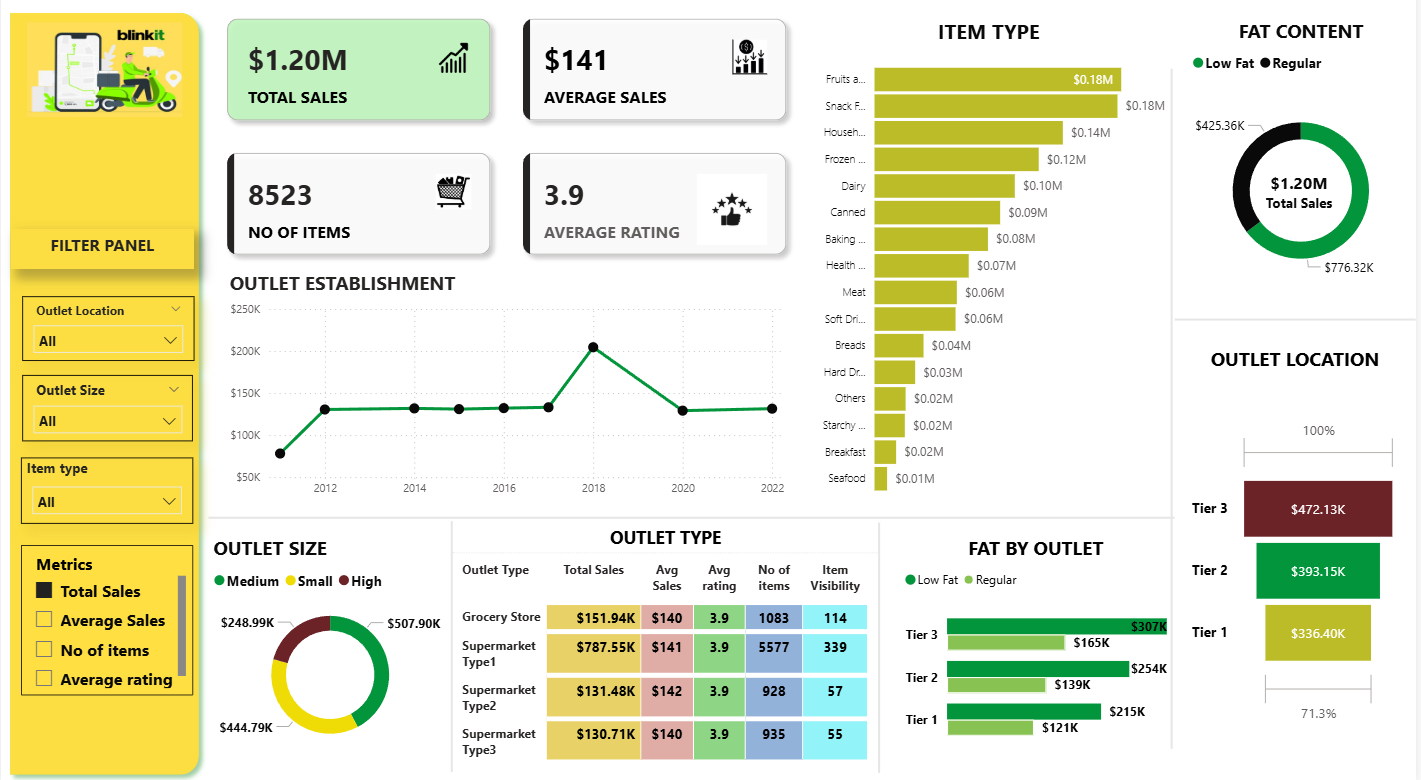

The page's visual inventory and layout, read from the dashboard file:
{"tool":"powerbi","page":{"name":"Page 1","canvas":[1400,800],"ordinal":0},"visuals":[{"type":"shape","box":[0,28.2,205.1,772.1],"z":0},{"type":"cardVisual","fields":{"Data":["BlinkIT Grocery Data.Total Sales","BlinkIT Grocery Data.Average Sales","BlinkIT Grocery Data.No of items","BlinkIT Grocery Data.Average rating"]},"box":[205.1,24.1,591.2,270.8],"z":1000},{"type":"slicer","fields":{"Values":["Metrics.Metrics"]},"box":[20.1,564.3,170.2,148.8],"z":2000},{"type":"textbox","box":[316.4,364.6,185,34.9],"z":3000},{"type":"barChart","title":"ITEM TYPE","fields":{"Y":["BlinkIT Grocery Data.Total Sales"],"Category":["BlinkIT Grocery Data.Item Type"]},"box":[796.3,41.6,361.9,483.9],"z":4000},{"type":"group","id":"g1","title":"Group 1","box":[1174.3,41.6,225.2,288.2],"z":5000},{"type":"donutChart","title":"FAT CONTENT","fields":{"Y":["BlinkIT Grocery Data.Total Sales"],"Category":["BlinkIT Grocery Data.Item Fat Content"]},"box":[1174.3,41.6,225.2,288.2],"z":5000,"group":"g1"},{"type":"donutChart","title":"OUTLET SIZE","fields":{"Y":["BlinkIT Grocery Data.Total Sales"],"Category":["BlinkIT Grocery Data.Outlet Size"]},"box":[205.1,553.6,241.3,222.5],"z":5000,"group":"g2"},{"type":"clusteredBarChart","title":"FAT BY OUTLET","fields":{"Y":["BlinkIT Grocery Data.Total Sales"],"Category":["BlinkIT Grocery Data.Outlet Location Type"],"Series":["BlinkIT Grocery Data.Item Fat Content"]},"box":[888.7,553.6,269.4,222.5],"z":6000},{"type":"cardVisual","fields":{"Data":["BlinkIT Grocery Data.Total Sales"]},"box":[1224.9,166.7,120.8,94],"z":7000,"group":"g1"},{"type":"shape","box":[205.1,509.4,955.8,55],"z":7000},{"type":"shape","box":[1118,92.5,80.4,672.9],"z":8000},{"type":"shape","box":[1160.9,313.7,238.6,53.6],"z":9000},{"type":"lineChart","title":"OUTLET ESTABLISHMENT ","fields":{"Y":["BlinkIT Grocery Data.Total Sales"],"Category":["BlinkIT Grocery Data.Outlet Establishment Year"]},"box":[221.2,292.2,559,233.2],"z":10000},{"type":"group","id":"g2","title":"Group 1","box":[205.1,553.6,241.3,222.5],"z":11000},{"type":"funnel","title":"OUTLET LOCATION","fields":{"Y":["BlinkIT Grocery Data.Total Sales"],"Category":["BlinkIT Grocery Data.Outlet Location Type"]},"box":[1174.3,367.3,213.1,418.2],"z":12000},{"type":"pivotTable","title":"OUTLET TYPE","fields":{"Rows":["BlinkIT Grocery Data.Outlet Type"],"Values":["BlinkIT Grocery Data.Total Sales","BlinkIT Grocery Data.Average Sales","BlinkIT Grocery Data.Average rating","BlinkIT Grocery Data.No of items","Sum(BlinkIT Grocery Data.Item Visibility)"]},"box":[446.4,544.2,422.3,241.3],"z":13000},{"type":"shape","box":[780.2,541.6,176.9,248],"z":14000},{"type":"shape","box":[356.6,540.2,179.6,248],"z":15000},{"type":"image","box":[21.4,41.6,163.5,103.2],"z":16000},{"type":"slicer","fields":{"Values":["BlinkIT Grocery Data.Outlet Location Type"]},"box":[20.1,317.7,170.2,64.3],"z":16502,"group":"g3"},{"type":"slicer","title":"Item type","fields":{"Values":["BlinkIT Grocery Data.Item Type"]},"box":[18.8,477.2,170.2,65.7],"z":16503,"group":"g3"},{"type":"slicer","fields":{"Values":["BlinkIT Grocery Data.Outlet Size"]},"box":[20.1,395.5,168.9,65.7],"z":16504,"group":"g3"},{"type":"textbox","box":[9.4,250.7,181,40.2],"z":16505,"group":"g3"},{"type":"group","id":"g3","title":"Group 2","box":[9.4,250.7,181,292.2],"z":17000}]}

Visuals, with their boxes on the page's 1400x800 design canvas (x1, y1, x2, y2). These are canvas units, not pixel positions in the 1421x780 screenshot, which may show the page scaled, cropped or inside an application window:
shape: [left=0, top=28, right=205, bottom=800]
cardVisual - BlinkIT Grocery Data.Total Sales x BlinkIT Grocery Data.Average Sales: [left=205, top=24, right=796, bottom=295]
slicer - Metrics.Metrics: [left=20, top=564, right=190, bottom=713]
textbox: [left=316, top=365, right=501, bottom=400]
"ITEM TYPE" barChart: [left=796, top=42, right=1158, bottom=526]
"Group 1" group: [left=1174, top=42, right=1400, bottom=330]
"FAT CONTENT" donutChart: [left=1174, top=42, right=1400, bottom=330]
"OUTLET SIZE" donutChart: [left=205, top=554, right=446, bottom=776]
"FAT BY OUTLET" clusteredBarChart: [left=889, top=554, right=1158, bottom=776]
cardVisual - BlinkIT Grocery Data.Total Sales: [left=1225, top=167, right=1346, bottom=261]
shape: [left=205, top=509, right=1161, bottom=564]
shape: [left=1118, top=92, right=1198, bottom=765]
shape: [left=1161, top=314, right=1400, bottom=367]
"OUTLET ESTABLISHMENT " lineChart: [left=221, top=292, right=780, bottom=525]
"Group 1" group: [left=205, top=554, right=446, bottom=776]
"OUTLET LOCATION" funnel: [left=1174, top=367, right=1387, bottom=786]
"OUTLET TYPE" pivotTable: [left=446, top=544, right=869, bottom=786]
shape: [left=780, top=542, right=957, bottom=790]
shape: [left=357, top=540, right=536, bottom=788]
image: [left=21, top=42, right=185, bottom=145]
slicer - BlinkIT Grocery Data.Outlet Location Type: [left=20, top=318, right=190, bottom=382]
"Item type" slicer: [left=19, top=477, right=189, bottom=543]
slicer - BlinkIT Grocery Data.Outlet Size: [left=20, top=396, right=189, bottom=461]
textbox: [left=9, top=251, right=190, bottom=291]
"Group 2" group: [left=9, top=251, right=190, bottom=543]
